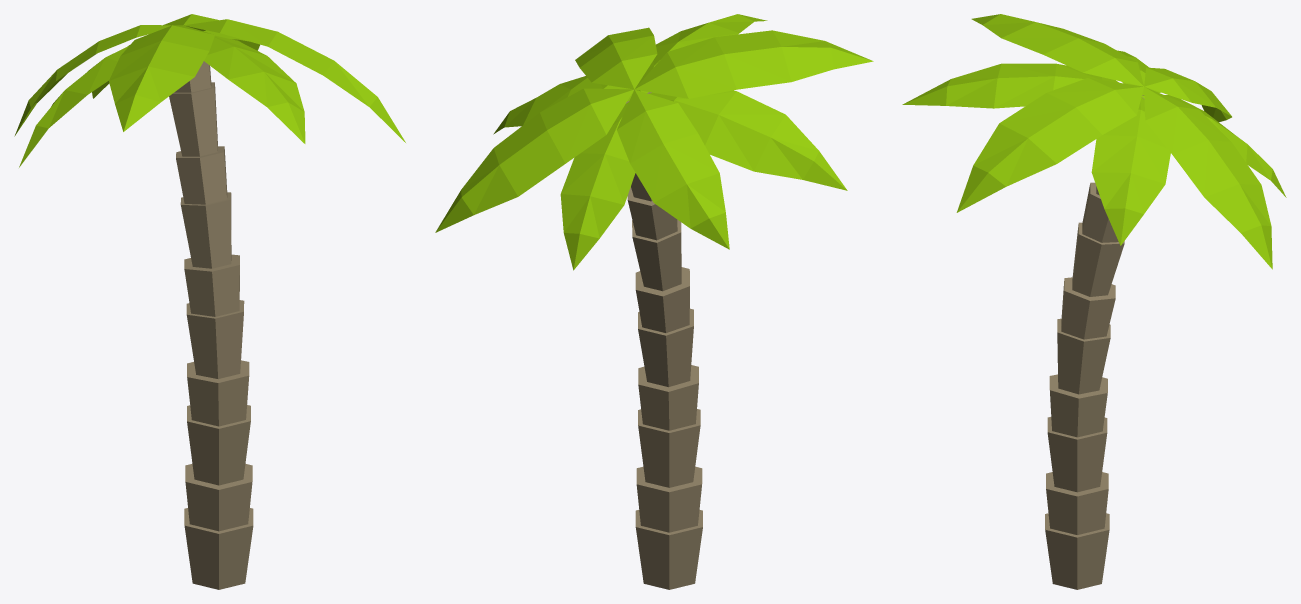
Rendered from palm1.fbx.
3 renders of one model, left to right at view 1: azimuth 30°, elevation 25°; view 2: azimuth 150°, elevation 25°; view 3: azimuth 270°, elevation 25°, orthographic. The views are drawn at different scales.
Parts seen in each view (by area): view 1: palm1; view 2: palm1; view 3: palm1.
Boxes of the visible parts, <box> form: palm1: <box>14,14,405,589</box>; palm1: <box>435,14,873,589</box>; palm1: <box>902,14,1286,589</box>.
Size of the model in its own units: 129 by 194 by 132.
